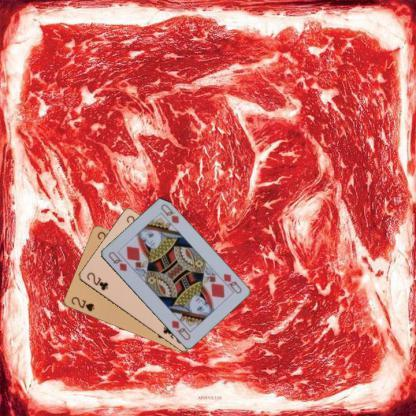2c: (84, 270, 110, 292)
2s: (68, 294, 96, 313)
Qd: (216, 270, 243, 295), (106, 249, 128, 273)
